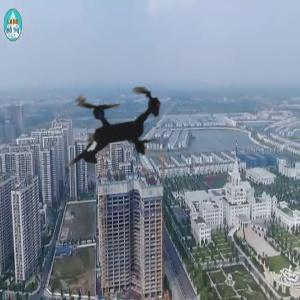drone: (32, 43, 199, 210)
